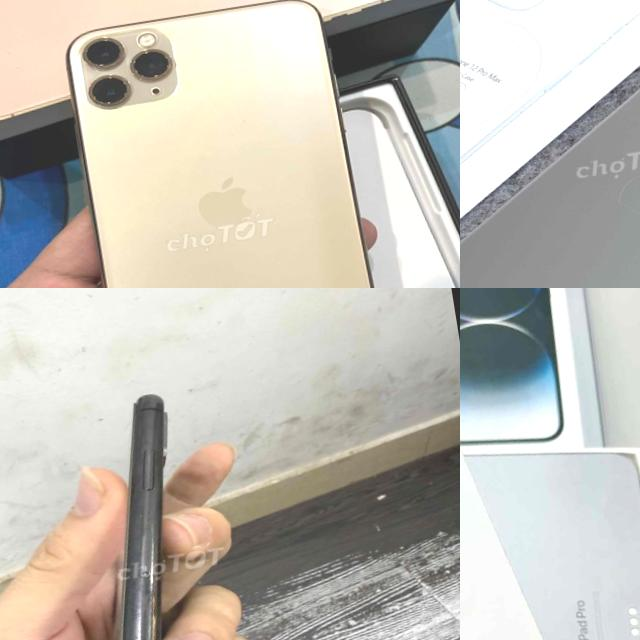gen_12_13: (460, 2, 640, 288)
gen_14: (48, 0, 402, 288)
gen_x_xs: (109, 394, 167, 640)
